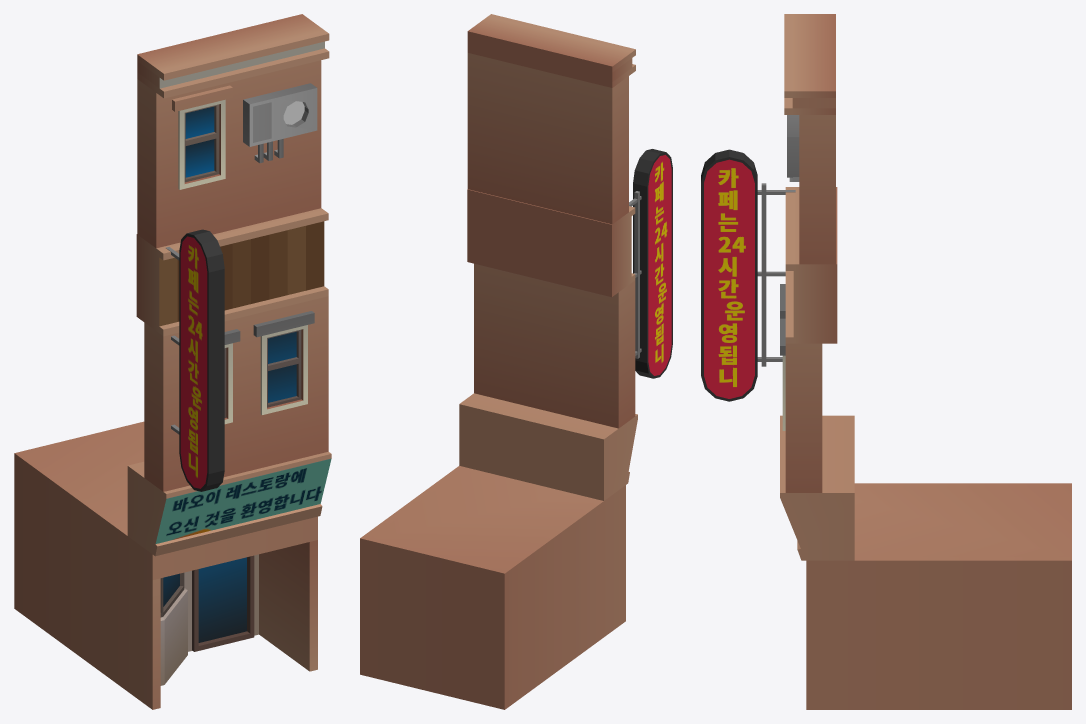
File: B02_Facade_03_B.fbx
3 views of the same model, side by side, from view 1: azimuth 30°, elevation 25°; view 2: azimuth 150°, elevation 25°; view 3: azimuth 270°, elevation 25° (orthographic). The views are drawn at different scales.
Visible parts, largest first — view 1: B02_Facade_03_B; view 2: B02_Facade_03_B; view 3: B02_Facade_03_B.
Part boxes in pixels (x1,y1,x2,y2): B02_Facade_03_B: (14,14,331,709); B02_Facade_03_B: (360,14,672,709); B02_Facade_03_B: (701,14,1071,709).
Bounding box in the file's own units: 375 × 1398 × 759.
